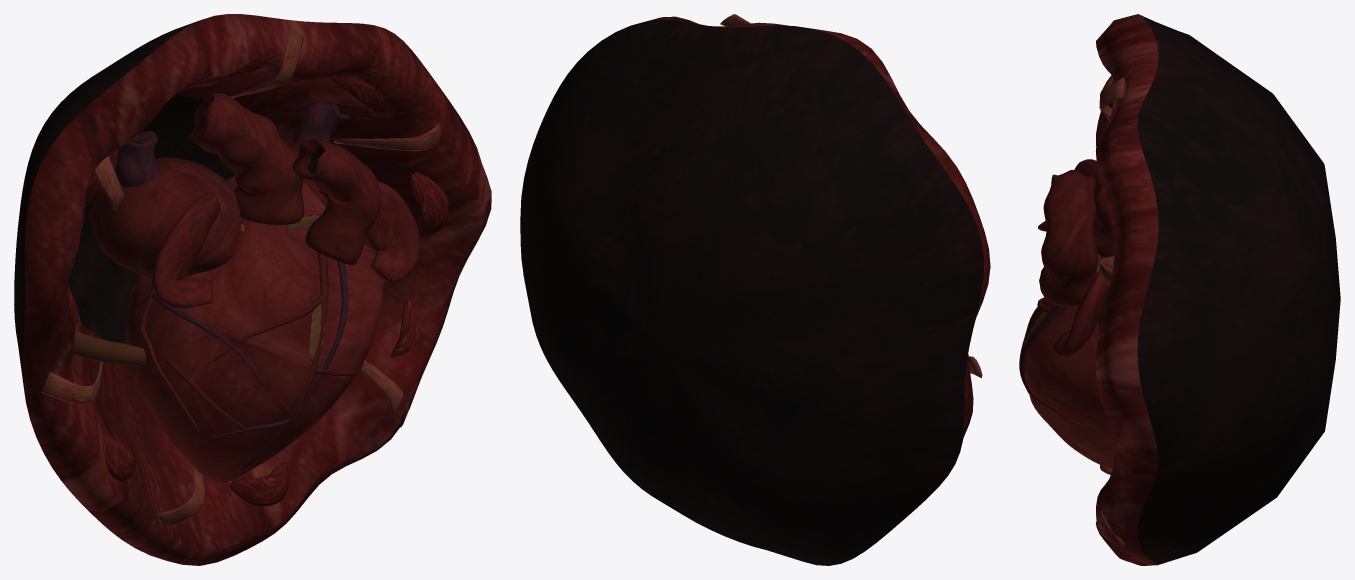
The model's file is chest-anatomy-v1.glb.
The picture shows the model from 3 angles, left to right: view 1: azimuth 30°, elevation 25°; view 2: azimuth 150°, elevation 25°; view 3: azimuth 270°, elevation 25°; orthographic projection. The views are drawn at different scales.
Visible parts, largest first — view 1: ChestWound, Heart; view 2: ChestWound; view 3: ChestWound, Heart.
Part boxes in pixels (x1=…): ChestWound: x1=14, y1=14, x2=491, y2=565; Heart: x1=88, y1=93, x2=420, y2=485; ChestWound: x1=520, y1=14, x2=990, y2=565; ChestWound: x1=1096, y1=14, x2=1340, y2=565; Heart: x1=1019, y1=159, x2=1114, y2=469.
Bounding box in the file's own units: 0.17 × 0.19 × 0.105.
1 material, 1 textured.
